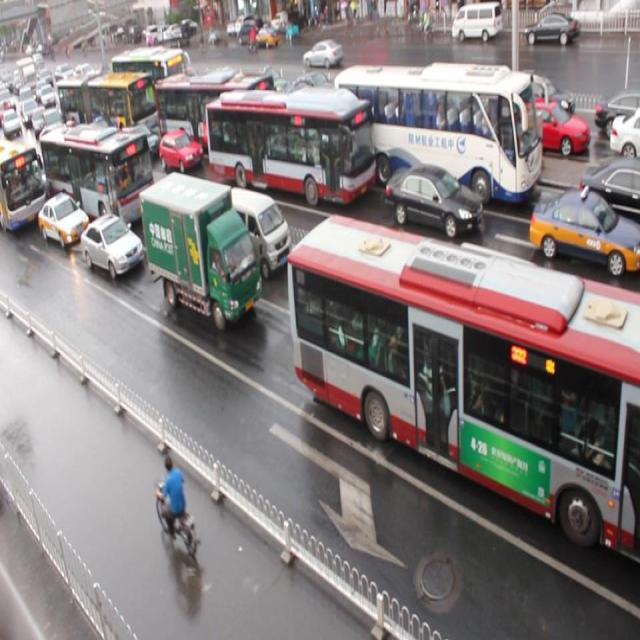bus: (138, 169, 262, 329)
car: (528, 187, 640, 274), (300, 228, 404, 321), (384, 162, 483, 238), (577, 157, 640, 232), (141, 185, 208, 250), (80, 206, 138, 272), (36, 187, 88, 243), (159, 128, 202, 172), (116, 123, 160, 164)
truck: (440, 240, 568, 386), (216, 186, 292, 276)
van: (285, 214, 640, 556), (334, 66, 541, 204), (206, 84, 375, 204), (38, 121, 156, 232), (154, 70, 274, 160), (58, 71, 158, 132), (1, 134, 46, 226)
